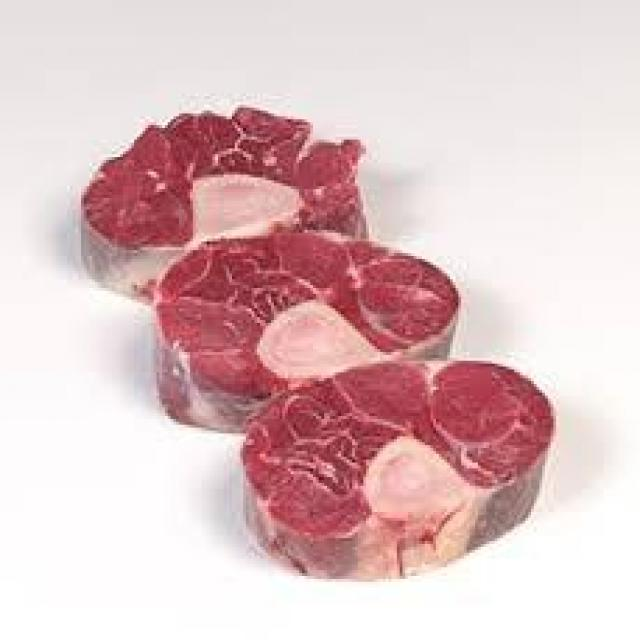Beef: (198, 359, 580, 592)
